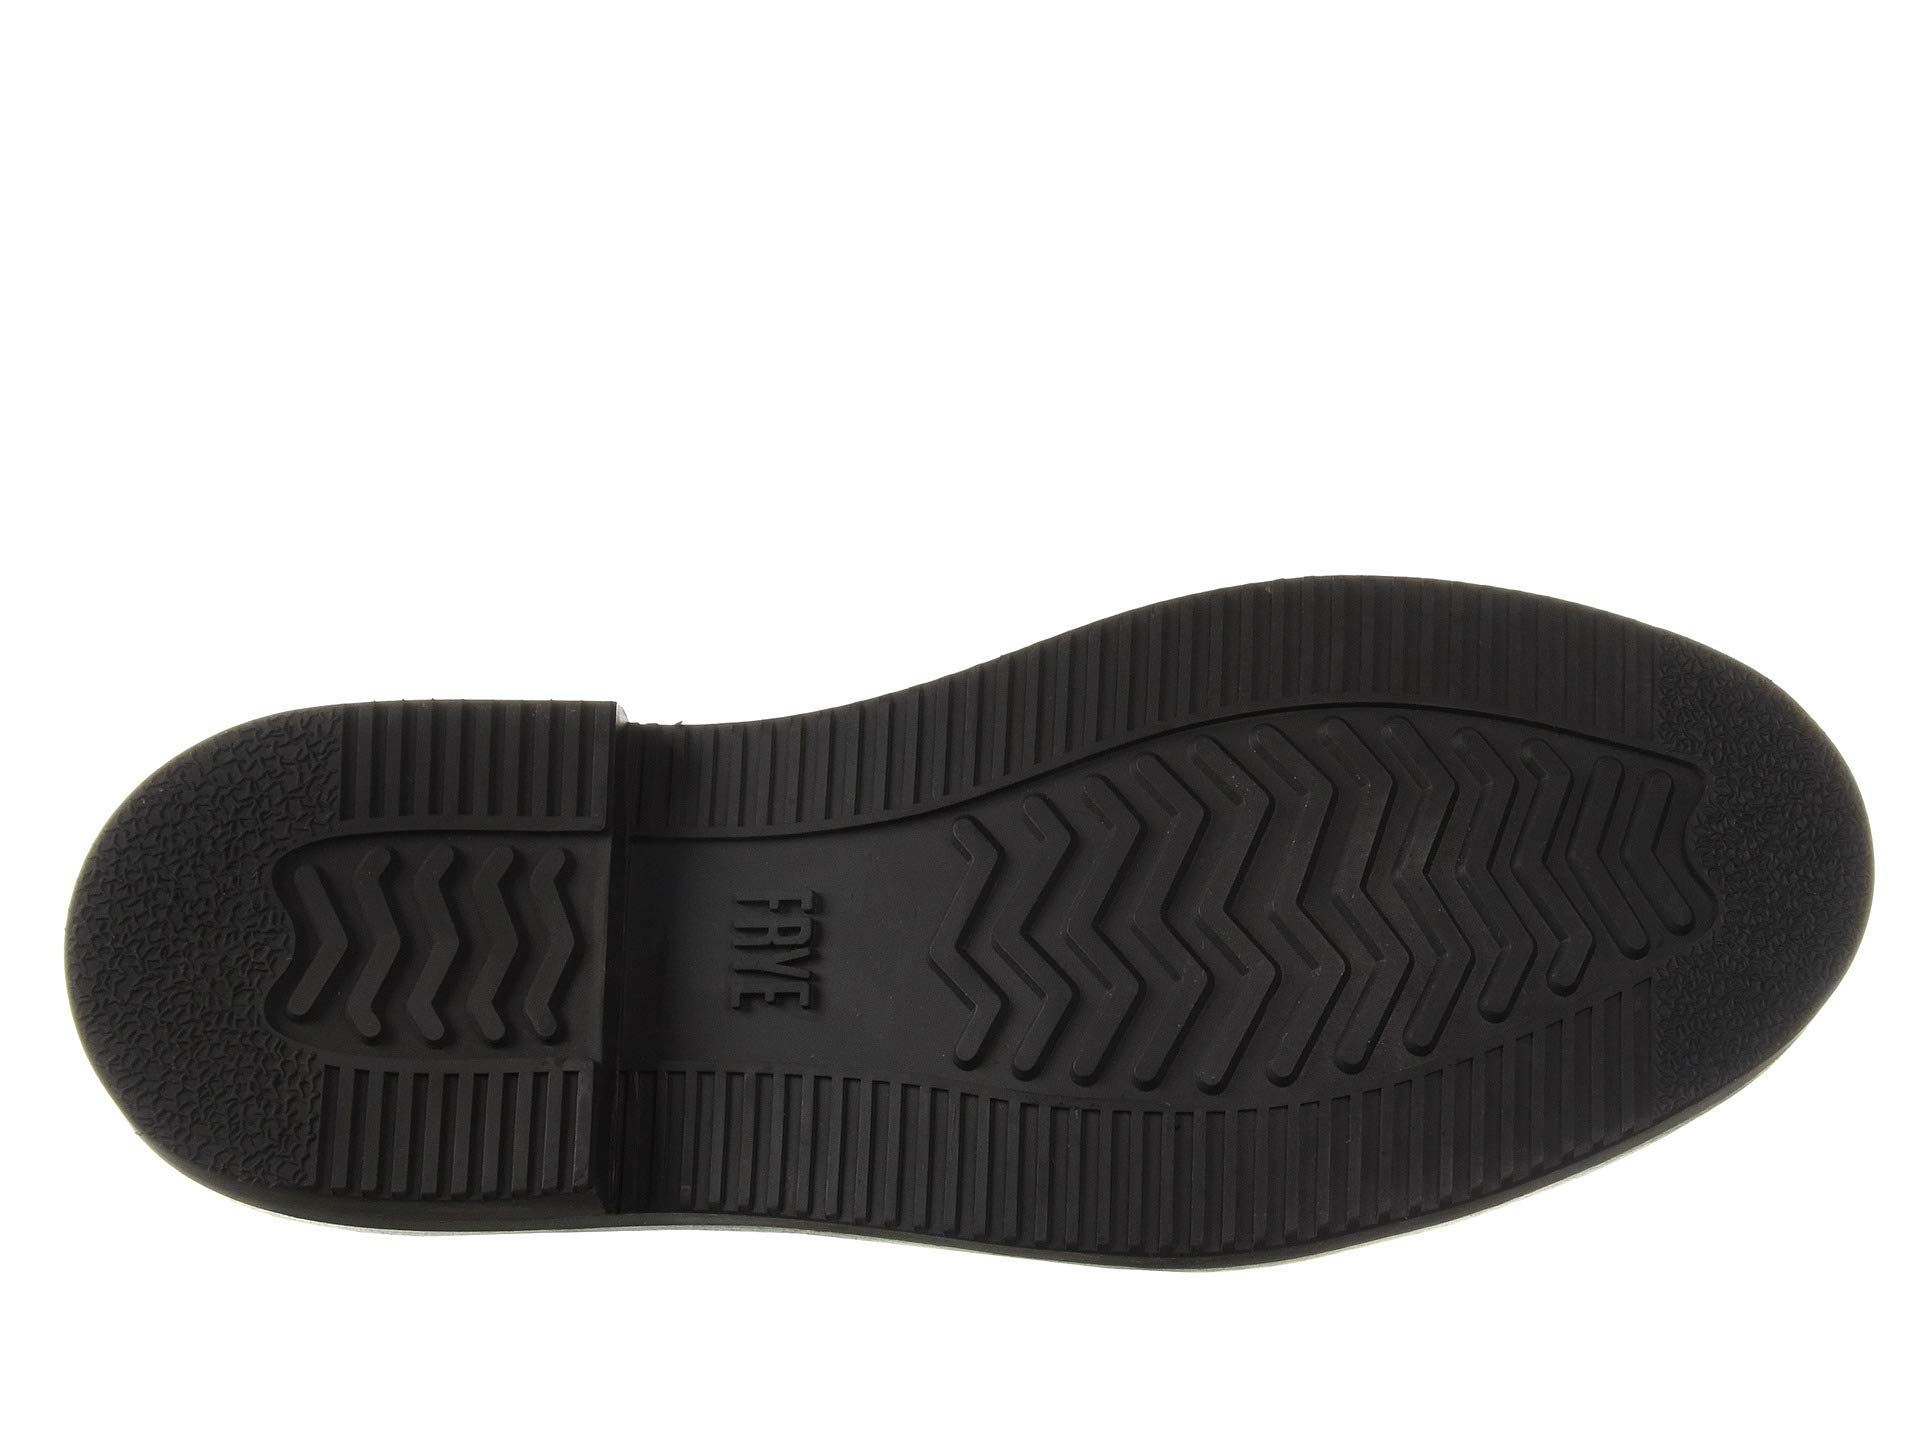chevron: (1004, 743, 1545, 1054), (283, 861, 597, 1041), (1563, 761, 1705, 954)
exclude: (596, 667, 946, 1254)
quad: (989, 1088, 1398, 1271), (1199, 579, 1550, 715), (313, 1063, 599, 1206), (336, 702, 596, 821), (983, 602, 1135, 781), (1581, 970, 1666, 1145), (1451, 1033, 1515, 1201)
